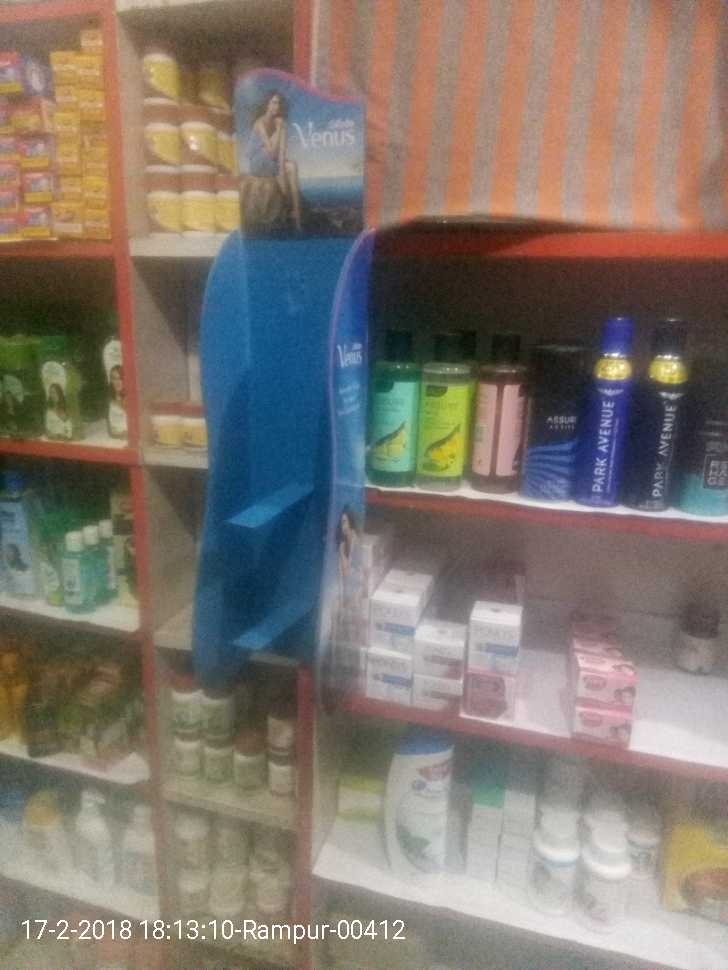reject: (269, 409, 406, 464)
